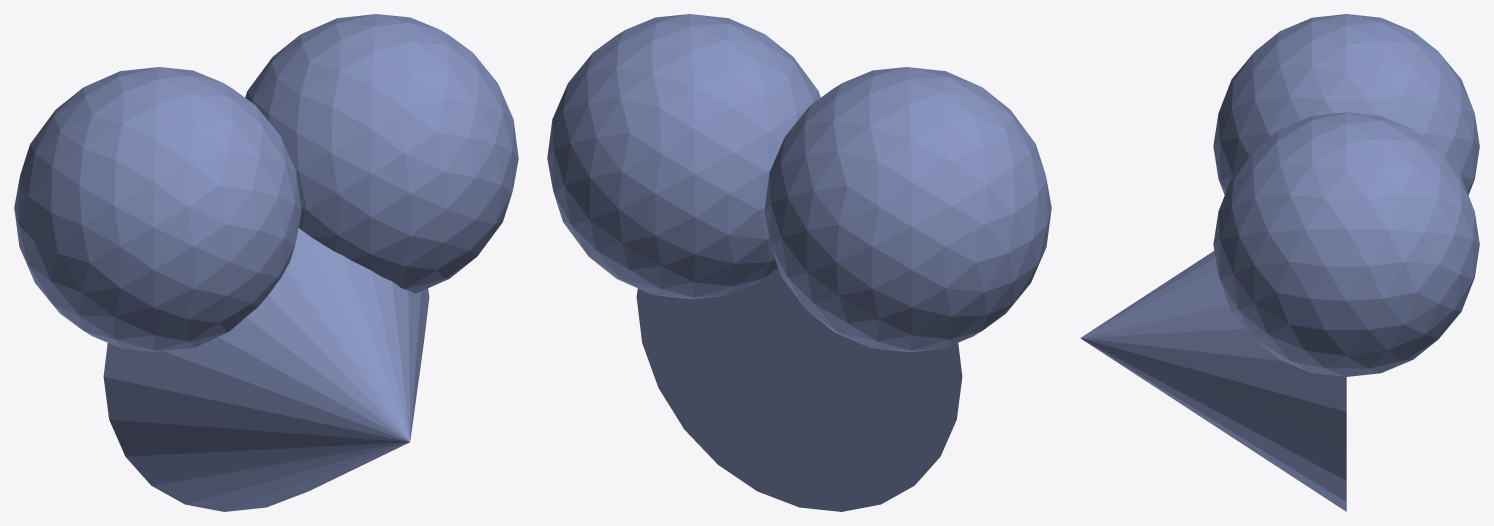
File: love_005.glb
3 views of the same model, side by side, from view 1: azimuth 30°, elevation 25°; view 2: azimuth 150°, elevation 25°; view 3: azimuth 270°, elevation 25° (orthographic). The views are drawn at different scales.
Parts seen in each view (by area): view 1: world; view 2: world; view 3: world.
Boxes of the visible parts, box(x1,y1,x2,y2) form: world: box(14, 14, 518, 511); world: box(547, 14, 1051, 511); world: box(1080, 14, 1479, 511).
Bounding box in the file's own units: 2.06 × 1.92 × 1.65.
